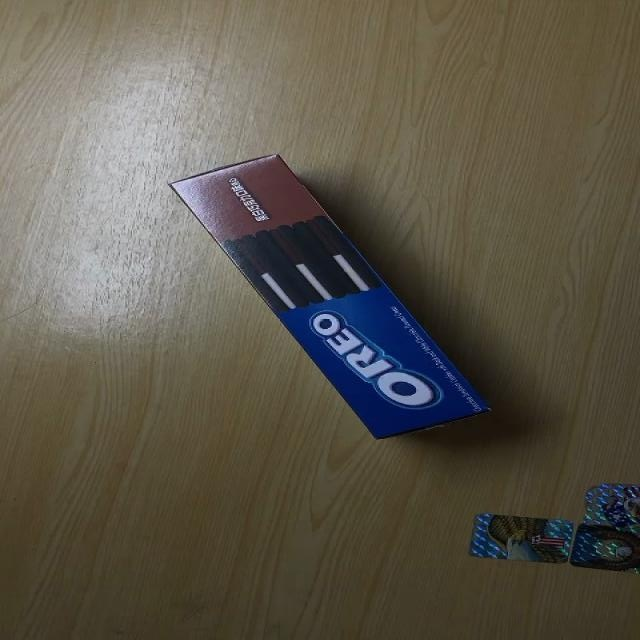Oreo: (163, 151, 498, 440)
